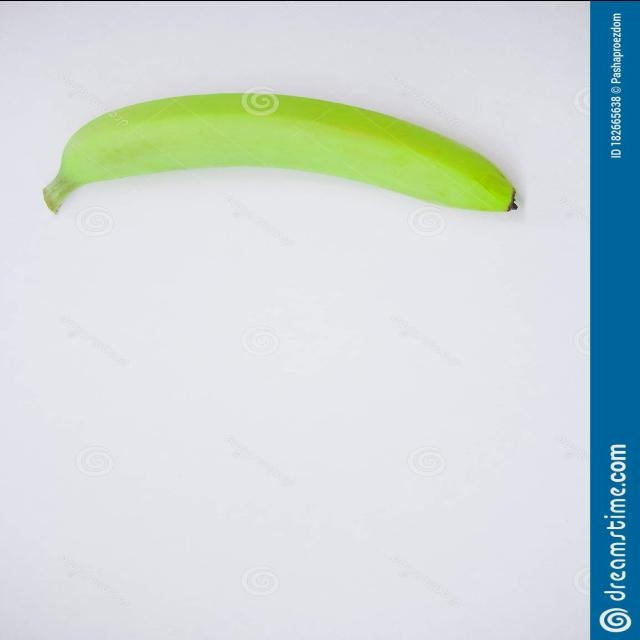agrume: (38, 91, 518, 217)
